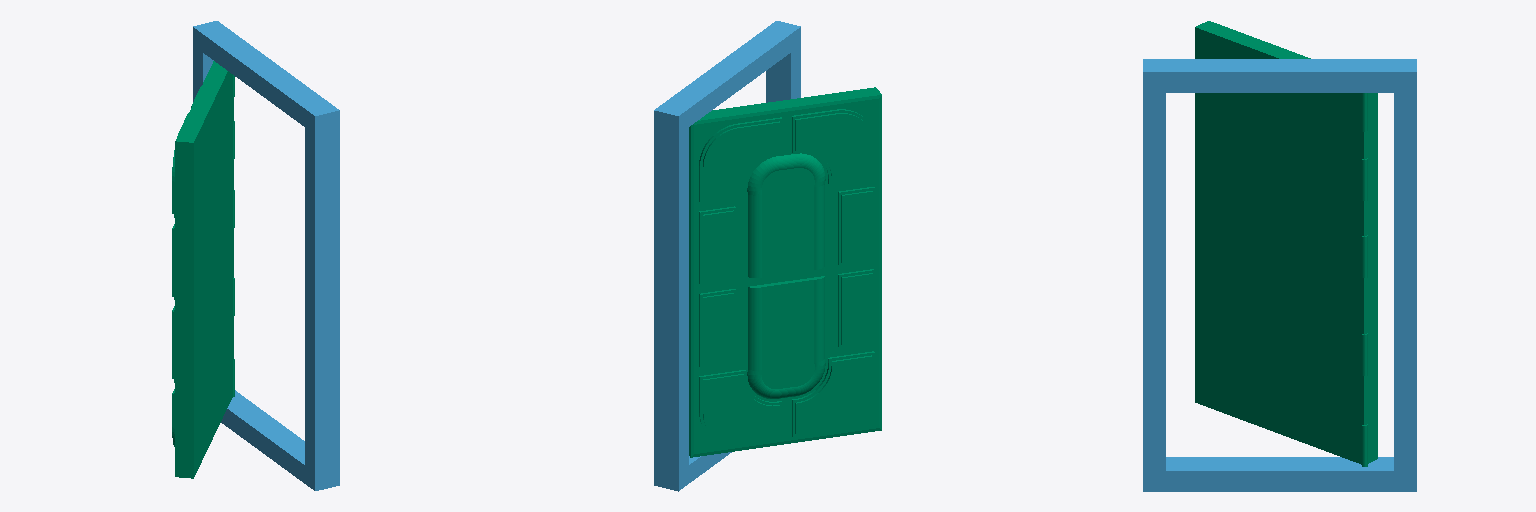
robot.urdf — partnet_59339b775f850439d11bf0ebe3c12ae8:
<?xml version="1.0" ?>
<robot name="partnet_59339b775f850439d11bf0ebe3c12ae8">
	<link name="base"/>
	<link name="link_0">
		<visual name="outside_frame-33">
			<origin xyz="0 0 0"/>
			<geometry>
				<mesh filename="textured_objs/original-2.obj"/>
			</geometry>
		</visual>
		<visual name="outside_frame-33">
			<origin xyz="0 0 0"/>
			<geometry>
				<mesh filename="textured_objs/original-3.obj"/>
			</geometry>
		</visual>
		<collision>
			<origin xyz="0 0 0"/>
			<geometry>
				<mesh filename="textured_objs/original-2.obj"/>
			</geometry>
		</collision>
		<collision>
			<origin xyz="0 0 0"/>
			<geometry>
				<mesh filename="textured_objs/original-3.obj"/>
			</geometry>
		</collision>
	</link>
	<joint name="joint_0" type="fixed">
		<origin rpy="1.570796326794897 0 -1.570796326794897" xyz="0 0 0"/>
		<child link="link_0"/>
		<parent link="base"/>
	</joint>
	<link name="link_1">
		<visual name="hinge-34">
			<origin xyz="0.312270169753334 -0.8477679999999996 -0.23620793404475338"/>
			<geometry>
				<mesh filename="textured_objs/original-48.obj"/>
			</geometry>
		</visual>
		<visual name="hinge-35">
			<origin xyz="0.312270169753334 -0.8477679999999996 -0.23620793404475338"/>
			<geometry>
				<mesh filename="textured_objs/original-44.obj"/>
			</geometry>
		</visual>
		<visual name="hinge-36">
			<origin xyz="0.312270169753334 -0.8477679999999996 -0.23620793404475338"/>
			<geometry>
				<mesh filename="textured_objs/original-47.obj"/>
			</geometry>
		</visual>
		<visual name="hinge-37">
			<origin xyz="0.312270169753334 -0.8477679999999996 -0.23620793404475338"/>
			<geometry>
				<mesh filename="textured_objs/original-46.obj"/>
			</geometry>
		</visual>
		<visual name="hinge-38">
			<origin xyz="0.312270169753334 -0.8477679999999996 -0.23620793404475338"/>
			<geometry>
				<mesh filename="textured_objs/original-45.obj"/>
			</geometry>
		</visual>
		<visual name="surface_board-41">
			<origin xyz="0.312270169753334 -0.8477679999999996 -0.23620793404475338"/>
			<geometry>
				<mesh filename="textured_objs/original-5.obj"/>
			</geometry>
		</visual>
		<visual name="surface_board-41">
			<origin xyz="0.312270169753334 -0.8477679999999996 -0.23620793404475338"/>
			<geometry>
				<mesh filename="textured_objs/original-13.obj"/>
			</geometry>
		</visual>
		<visual name="surface_board-41">
			<origin xyz="0.312270169753334 -0.8477679999999996 -0.23620793404475338"/>
			<geometry>
				<mesh filename="textured_objs/original-29.obj"/>
			</geometry>
		</visual>
		<visual name="surface_board-41">
			<origin xyz="0.312270169753334 -0.8477679999999996 -0.23620793404475338"/>
			<geometry>
				<mesh filename="textured_objs/original-12.obj"/>
			</geometry>
		</visual>
		<visual name="surface_board-41">
			<origin xyz="0.312270169753334 -0.8477679999999996 -0.23620793404475338"/>
			<geometry>
				<mesh filename="textured_objs/original-31.obj"/>
			</geometry>
		</visual>
		<visual name="surface_board-41">
			<origin xyz="0.312270169753334 -0.8477679999999996 -0.23620793404475338"/>
			<geometry>
				<mesh filename="textured_objs/original-7.obj"/>
			</geometry>
		</visual>
		<visual name="surface_board-41">
			<origin xyz="0.312270169753334 -0.8477679999999996 -0.23620793404475338"/>
			<geometry>
				<mesh filename="textured_objs/original-11.obj"/>
			</geometry>
		</visual>
		<visual name="surface_board-41">
			<origin xyz="0.312270169753334 -0.8477679999999996 -0.23620793404475338"/>
			<geometry>
				<mesh filename="textured_objs/original-25.obj"/>
			</geometry>
		</visual>
		<visual name="surface_board-41">
			<origin xyz="0.312270169753334 -0.8477679999999996 -0.23620793404475338"/>
			<geometry>
				<mesh filename="textured_objs/original-10.obj"/>
			</geometry>
		</visual>
		<visual name="surface_board-41">
			<origin xyz="0.312270169753334 -0.8477679999999996 -0.23620793404475338"/>
			<geometry>
				<mesh filename="textured_objs/original-6.obj"/>
			</geometry>
		</visual>
		<visual name="surface_board-41">
			<origin xyz="0.312270169753334 -0.8477679999999996 -0.23620793404475338"/>
			<geometry>
				<mesh filename="textured_objs/original-27.obj"/>
			</geometry>
		</visual>
		<visual name="surface_board-41">
			<origin xyz="0.312270169753334 -0.8477679999999996 -0.23620793404475338"/>
			<geometry>
				<mesh filename="textured_objs/original-22.obj"/>
			</geometry>
		</visual>
		<visual name="surface_board-41">
			<origin xyz="0.312270169753334 -0.8477679999999996 -0.23620793404475338"/>
			<geometry>
				<mesh filename="textured_objs/original-9.obj"/>
			</geometry>
		</visual>
		<visual name="surface_board-41">
			<origin xyz="0.312270169753334 -0.8477679999999996 -0.23620793404475338"/>
			<geometry>
				<mesh filename="textured_objs/original-23.obj"/>
			</geometry>
		</visual>
		<visual name="surface_board-41">
			<origin xyz="0.312270169753334 -0.8477679999999996 -0.23620793404475338"/>
			<geometry>
				<mesh filename="textured_objs/original-8.obj"/>
			</geometry>
		</visual>
		<visual name="surface_board-41">
			<origin xyz="0.312270169753334 -0.8477679999999996 -0.23620793404475338"/>
			<geometry>
				<mesh filename="textured_objs/original-24.obj"/>
			</geometry>
		</visual>
		<visual name="surface_board-41">
			<origin xyz="0.312270169753334 -0.8477679999999996 -0.23620793404475338"/>
			<geometry>
				<mesh filename="textured_objs/original-28.obj"/>
			</geometry>
		</visual>
		<visual name="surface_board-41">
			<origin xyz="0.312270169753334 -0.8477679999999996 -0.23620793404475338"/>
			<geometry>
				<mesh filename="textured_objs/original-14.obj"/>
			</geometry>
		</visual>
		<visual name="surface_board-41">
			<origin xyz="0.312270169753334 -0.8477679999999996 -0.23620793404475338"/>
			<geometry>
				<mesh filename="textured_objs/original-30.obj"/>
			</geometry>
		</visual>
		<visual name="glass-42">
			<origin xyz="0.312270169753334 -0.8477679999999996 -0.23620793404475338"/>
			<geometry>
				<mesh filename="textured_objs/original-32.obj"/>
			</geometry>
		</visual>
		<visual name="glass-42">
			<origin xyz="0.312270169753334 -0.8477679999999996 -0.23620793404475338"/>
			<geometry>
				<mesh filename="textured_objs/original-21.obj"/>
			</geometry>
		</visual>
		<visual name="glass-43">
			<origin xyz="0.312270169753334 -0.8477679999999996 -0.23620793404475338"/>
			<geometry>
				<mesh filename="textured_objs/original-26.obj"/>
			</geometry>
		</visual>
		<visual name="glass-43">
			<origin xyz="0.312270169753334 -0.8477679999999996 -0.23620793404475338"/>
			<geometry>
				<mesh filename="textured_objs/original-33.obj"/>
			</geometry>
		</visual>
		<visual name="glass-44">
			<origin xyz="0.312270169753334 -0.8477679999999996 -0.23620793404475338"/>
			<geometry>
				<mesh filename="textured_objs/original-16.obj"/>
			</geometry>
		</visual>
		<visual name="glass-44">
			<origin xyz="0.312270169753334 -0.8477679999999996 -0.23620793404475338"/>
			<geometry>
				<mesh filename="textured_objs/original-39.obj"/>
			</geometry>
		</visual>
		<visual name="glass-45">
			<origin xyz="0.312270169753334 -0.8477679999999996 -0.23620793404475338"/>
			<geometry>
				<mesh filename="textured_objs/original-20.obj"/>
			</geometry>
		</visual>
		<visual name="glass-45">
			<origin xyz="0.312270169753334 -0.8477679999999996 -0.23620793404475338"/>
			<geometry>
				<mesh filename="textured_objs/original-34.obj"/>
			</geometry>
		</visual>
		<visual name="glass-46">
			<origin xyz="0.312270169753334 -0.8477679999999996 -0.23620793404475338"/>
			<geometry>
				<mesh filename="textured_objs/original-40.obj"/>
			</geometry>
		</visual>
		<visual name="glass-46">
			<origin xyz="0.312270169753334 -0.8477679999999996 -0.23620793404475338"/>
			<geometry>
				<mesh filename="textured_objs/original-43.obj"/>
			</geometry>
		</visual>
		<visual name="glass-47">
			<origin xyz="0.312270169753334 -0.8477679999999996 -0.23620793404475338"/>
			<geometry>
				<mesh filename="textured_objs/original-35.obj"/>
			</geometry>
		</visual>
		<visual name="glass-47">
			<origin xyz="0.312270169753334 -0.8477679999999996 -0.23620793404475338"/>
			<geometry>
				<mesh filename="textured_objs/original-19.obj"/>
			</geometry>
		</visual>
		<visual name="glass-48">
			<origin xyz="0.312270169753334 -0.8477679999999996 -0.23620793404475338"/>
			<geometry>
				<mesh filename="textured_objs/original-41.obj"/>
			</geometry>
		</visual>
		<visual name="glass-48">
			<origin xyz="0.312270169753334 -0.8477679999999996 -0.23620793404475338"/>
			<geometry>
				<mesh filename="textured_objs/original-42.obj"/>
			</geometry>
		</visual>
		<visual name="glass-49">
			<origin xyz="0.312270169753334 -0.8477679999999996 -0.23620793404475338"/>
			<geometry>
				<mesh filename="textured_objs/original-38.obj"/>
			</geometry>
		</visual>
		<visual name="glass-49">
			<origin xyz="0.312270169753334 -0.8477679999999996 -0.23620793404475338"/>
			<geometry>
				<mesh filename="textured_objs/original-15.obj"/>
			</geometry>
		</visual>
		<visual name="glass-50">
			<origin xyz="0.312270169753334 -0.8477679999999996 -0.23620793404475338"/>
			<geometry>
				<mesh filename="textured_objs/original-36.obj"/>
			</geometry>
		</visual>
		<visual name="glass-50">
			<origin xyz="0.312270169753334 -0.8477679999999996 -0.23620793404475338"/>
			<geometry>
				<mesh filename="textured_objs/original-18.obj"/>
			</geometry>
		</visual>
		<visual name="glass-51">
			<origin xyz="0.312270169753334 -0.8477679999999996 -0.23620793404475338"/>
			<geometry>
				<mesh filename="textured_objs/original-37.obj"/>
			</geometry>
		</visual>
		<visual name="glass-51">
			<origin xyz="0.312270169753334 -0.8477679999999996 -0.23620793404475338"/>
			<geometry>
				<mesh filename="textured_objs/original-17.obj"/>
			</geometry>
		</visual>
		<collision>
			<origin xyz="0.312270169753334 -0.8477679999999996 -0.23620793404475338"/>
			<geometry>
				<mesh filename="textured_objs/original-48.obj"/>
			</geometry>
		</collision>
		<collision>
			<origin xyz="0.312270169753334 -0.8477679999999996 -0.23620793404475338"/>
			<geometry>
				<mesh filename="textured_objs/original-44.obj"/>
			</geometry>
		</collision>
		<collision>
			<origin xyz="0.312270169753334 -0.8477679999999996 -0.23620793404475338"/>
			<geometry>
				<mesh filename="textured_objs/original-47.obj"/>
			</geometry>
		</collision>
		<collision>
			<origin xyz="0.312270169753334 -0.8477679999999996 -0.23620793404475338"/>
			<geometry>
				<mesh filename="textured_objs/original-46.obj"/>
			</geometry>
		</collision>
		<collision>
			<origin xyz="0.312270169753334 -0.8477679999999996 -0.23620793404475338"/>
			<geometry>
				<mesh filename="textured_objs/original-45.obj"/>
			</geometry>
		</collision>
		<collision>
			<origin xyz="0.312270169753334 -0.8477679999999996 -0.23620793404475338"/>
			<geometry>
				<mesh filename="textured_objs/original-5.obj"/>
			</geometry>
		</collision>
		<collision>
			<origin xyz="0.312270169753334 -0.8477679999999996 -0.23620793404475338"/>
			<geometry>
				<mesh filename="textured_objs/original-13.obj"/>
			</geometry>
		</collision>
		<collision>
			<origin xyz="0.312270169753334 -0.8477679999999996 -0.23620793404475338"/>
			<geometry>
				<mesh filename="textured_objs/original-29.obj"/>
			</geometry>
		</collision>
		<collision>
			<origin xyz="0.312270169753334 -0.8477679999999996 -0.23620793404475338"/>
			<geometry>
				<mesh filename="textured_objs/original-12.obj"/>
			</geometry>
		</collision>
		<collision>
			<origin xyz="0.312270169753334 -0.8477679999999996 -0.23620793404475338"/>
			<geometry>
				<mesh filename="textured_objs/original-31.obj"/>
			</geometry>
		</collision>
		<collision>
			<origin xyz="0.312270169753334 -0.8477679999999996 -0.23620793404475338"/>
			<geometry>
				<mesh filename="textured_objs/original-7.obj"/>
			</geometry>
		</collision>
		<collision>
			<origin xyz="0.312270169753334 -0.8477679999999996 -0.23620793404475338"/>
			<geometry>
				<mesh filename="textured_objs/original-11.obj"/>
			</geometry>
		</collision>
		<collision>
			<origin xyz="0.312270169753334 -0.8477679999999996 -0.23620793404475338"/>
			<geometry>
				<mesh filename="textured_objs/original-25.obj"/>
			</geometry>
		</collision>
		<collision>
			<origin xyz="0.312270169753334 -0.8477679999999996 -0.23620793404475338"/>
			<geometry>
				<mesh filename="textured_objs/original-10.obj"/>
			</geometry>
		</collision>
		<collision>
			<origin xyz="0.312270169753334 -0.8477679999999996 -0.23620793404475338"/>
			<geometry>
				<mesh filename="textured_objs/original-6.obj"/>
			</geometry>
		</collision>
		<collision>
			<origin xyz="0.312270169753334 -0.8477679999999996 -0.23620793404475338"/>
			<geometry>
				<mesh filename="textured_objs/original-27.obj"/>
			</geometry>
		</collision>
		<collision>
			<origin xyz="0.312270169753334 -0.8477679999999996 -0.23620793404475338"/>
			<geometry>
				<mesh filename="textured_objs/original-22.obj"/>
			</geometry>
		</collision>
		<collision>
			<origin xyz="0.312270169753334 -0.8477679999999996 -0.23620793404475338"/>
			<geometry>
				<mesh filename="textured_objs/original-9.obj"/>
			</geometry>
		</collision>
		<collision>
			<origin xyz="0.312270169753334 -0.8477679999999996 -0.23620793404475338"/>
			<geometry>
				<mesh filename="textured_objs/original-23.obj"/>
			</geometry>
		</collision>
		<collision>
			<origin xyz="0.312270169753334 -0.8477679999999996 -0.23620793404475338"/>
			<geometry>
				<mesh filename="textured_objs/original-8.obj"/>
			</geometry>
		</collision>
		<collision>
			<origin xyz="0.312270169753334 -0.8477679999999996 -0.23620793404475338"/>
			<geometry>
				<mesh filename="textured_objs/original-24.obj"/>
			</geometry>
		</collision>
		<collision>
			<origin xyz="0.312270169753334 -0.8477679999999996 -0.23620793404475338"/>
			<geometry>
				<mesh filename="textured_objs/original-28.obj"/>
			</geometry>
		</collision>
		<collision>
			<origin xyz="0.312270169753334 -0.8477679999999996 -0.23620793404475338"/>
			<geometry>
				<mesh filename="textured_objs/original-14.obj"/>
			</geometry>
		</collision>
		<collision>
			<origin xyz="0.312270169753334 -0.8477679999999996 -0.23620793404475338"/>
			<geometry>
				<mesh filename="textured_objs/original-30.obj"/>
			</geometry>
		</collision>
		<collision>
			<origin xyz="0.312270169753334 -0.8477679999999996 -0.23620793404475338"/>
			<geometry>
				<mesh filename="textured_objs/original-32.obj"/>
			</geometry>
		</collision>
		<collision>
			<origin xyz="0.312270169753334 -0.8477679999999996 -0.23620793404475338"/>
			<geometry>
				<mesh filename="textured_objs/original-21.obj"/>
			</geometry>
		</collision>
		<collision>
			<origin xyz="0.312270169753334 -0.8477679999999996 -0.23620793404475338"/>
			<geometry>
				<mesh filename="textured_objs/original-26.obj"/>
			</geometry>
		</collision>
		<collision>
			<origin xyz="0.312270169753334 -0.8477679999999996 -0.23620793404475338"/>
			<geometry>
				<mesh filename="textured_objs/original-33.obj"/>
			</geometry>
		</collision>
		<collision>
			<origin xyz="0.312270169753334 -0.8477679999999996 -0.23620793404475338"/>
			<geometry>
				<mesh filename="textured_objs/original-16.obj"/>
			</geometry>
		</collision>
		<collision>
			<origin xyz="0.312270169753334 -0.8477679999999996 -0.23620793404475338"/>
			<geometry>
				<mesh filename="textured_objs/original-39.obj"/>
			</geometry>
		</collision>
		<collision>
			<origin xyz="0.312270169753334 -0.8477679999999996 -0.23620793404475338"/>
			<geometry>
				<mesh filename="textured_objs/original-20.obj"/>
			</geometry>
		</collision>
		<collision>
			<origin xyz="0.312270169753334 -0.8477679999999996 -0.23620793404475338"/>
			<geometry>
				<mesh filename="textured_objs/original-34.obj"/>
			</geometry>
		</collision>
		<collision>
			<origin xyz="0.312270169753334 -0.8477679999999996 -0.23620793404475338"/>
			<geometry>
				<mesh filename="textured_objs/original-40.obj"/>
			</geometry>
		</collision>
		<collision>
			<origin xyz="0.312270169753334 -0.8477679999999996 -0.23620793404475338"/>
			<geometry>
				<mesh filename="textured_objs/original-43.obj"/>
			</geometry>
		</collision>
		<collision>
			<origin xyz="0.312270169753334 -0.8477679999999996 -0.23620793404475338"/>
			<geometry>
				<mesh filename="textured_objs/original-35.obj"/>
			</geometry>
		</collision>
		<collision>
			<origin xyz="0.312270169753334 -0.8477679999999996 -0.23620793404475338"/>
			<geometry>
				<mesh filename="textured_objs/original-19.obj"/>
			</geometry>
		</collision>
		<collision>
			<origin xyz="0.312270169753334 -0.8477679999999996 -0.23620793404475338"/>
			<geometry>
				<mesh filename="textured_objs/original-41.obj"/>
			</geometry>
		</collision>
		<collision>
			<origin xyz="0.312270169753334 -0.8477679999999996 -0.23620793404475338"/>
			<geometry>
				<mesh filename="textured_objs/original-42.obj"/>
			</geometry>
		</collision>
		<collision>
			<origin xyz="0.312270169753334 -0.8477679999999996 -0.23620793404475338"/>
			<geometry>
				<mesh filename="textured_objs/original-38.obj"/>
			</geometry>
		</collision>
		<collision>
			<origin xyz="0.312270169753334 -0.8477679999999996 -0.23620793404475338"/>
			<geometry>
				<mesh filename="textured_objs/original-15.obj"/>
			</geometry>
		</collision>
		<collision>
			<origin xyz="0.312270169753334 -0.8477679999999996 -0.23620793404475338"/>
			<geometry>
				<mesh filename="textured_objs/original-36.obj"/>
			</geometry>
		</collision>
		<collision>
			<origin xyz="0.312270169753334 -0.8477679999999996 -0.23620793404475338"/>
			<geometry>
				<mesh filename="textured_objs/original-18.obj"/>
			</geometry>
		</collision>
		<collision>
			<origin xyz="0.312270169753334 -0.8477679999999996 -0.23620793404475338"/>
			<geometry>
				<mesh filename="textured_objs/original-37.obj"/>
			</geometry>
		</collision>
		<collision>
			<origin xyz="0.312270169753334 -0.8477679999999996 -0.23620793404475338"/>
			<geometry>
				<mesh filename="textured_objs/original-17.obj"/>
			</geometry>
		</collision>
	</link>
	<joint name="joint_1" type="revolute">
		<origin xyz="-0.312270169753334 0.8477679999999996 0.23620793404475338"/>
		<axis xyz="0 -1 0"/>
		<child link="link_1"/>
		<parent link="link_0"/>
		<limit lower="0.7853981633974483" upper="2.356194490192345"/>
	</joint>
</robot>

--- What the picture shows (computed from the rendered views, not written in the file) ---
3 views of the same robot in one strip: view 1: azimuth 30°, elevation 25°; view 2: azimuth 150°, elevation 25°; view 3: azimuth 270°, elevation 25° (orthographic).
Model partnet_59339b775f850439d11bf0ebe3c12ae8 with 3 links and 2 joints (1 revolute, 1 fixed), rooted at base, posed all joints at 0 but 1 set to mid-range because 0 is outside their limits (joint_1 = 1.57).
Links seen in each view (by area): view 1: link_1, link_0; view 2: link_1, link_0; view 3: link_1, link_0.
Link boxes in pixels (bbox=[...]): link_1: bbox=[172, 61, 234, 478]; link_0: bbox=[193, 21, 339, 490]; link_1: bbox=[689, 87, 881, 457]; link_0: bbox=[654, 21, 800, 491]; link_1: bbox=[1195, 21, 1377, 466]; link_0: bbox=[1143, 59, 1416, 491].
Size in the robot's own frame: 0.6222 by 0.9795 by 1.65 metres.
46 mesh visuals loaded from 46 distinct referenced files (46 OBJ).
